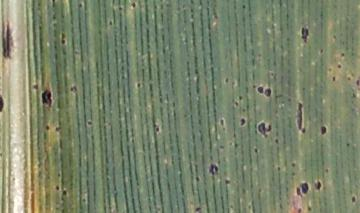tarspot: (1, 14, 15, 60), (294, 100, 306, 135), (255, 120, 272, 139), (39, 86, 52, 108), (299, 25, 310, 44), (299, 180, 310, 196), (207, 163, 218, 176), (59, 30, 66, 46), (1, 92, 6, 114), (256, 85, 265, 97), (314, 180, 322, 192), (319, 125, 327, 136), (218, 117, 226, 128), (355, 74, 360, 91), (294, 186, 301, 198), (85, 118, 94, 127), (49, 1, 59, 9), (264, 87, 271, 98), (239, 117, 246, 128), (54, 125, 62, 133), (69, 85, 77, 93), (50, 12, 58, 20), (350, 195, 357, 204), (318, 46, 325, 55), (135, 80, 142, 89), (32, 83, 39, 91), (194, 206, 202, 213), (335, 63, 342, 71), (339, 51, 346, 59), (153, 126, 161, 133), (193, 175, 201, 182), (44, 123, 50, 132), (350, 90, 356, 99), (223, 178, 230, 185), (130, 1, 136, 9), (290, 161, 296, 169), (223, 76, 229, 84), (117, 5, 123, 13), (276, 165, 282, 173), (217, 144, 225, 150), (234, 100, 240, 108), (61, 189, 67, 196), (306, 205, 312, 212), (296, 207, 303, 213), (331, 75, 337, 82), (327, 66, 333, 73), (240, 4, 246, 11), (233, 142, 239, 149), (240, 107, 247, 113), (55, 184, 60, 192), (289, 171, 297, 176), (344, 75, 352, 80), (324, 168, 330, 174), (253, 147, 259, 153), (237, 94, 243, 100), (108, 19, 113, 26), (77, 2, 82, 9), (274, 137, 279, 144), (345, 141, 350, 147), (331, 34, 337, 39), (56, 173, 62, 178)
